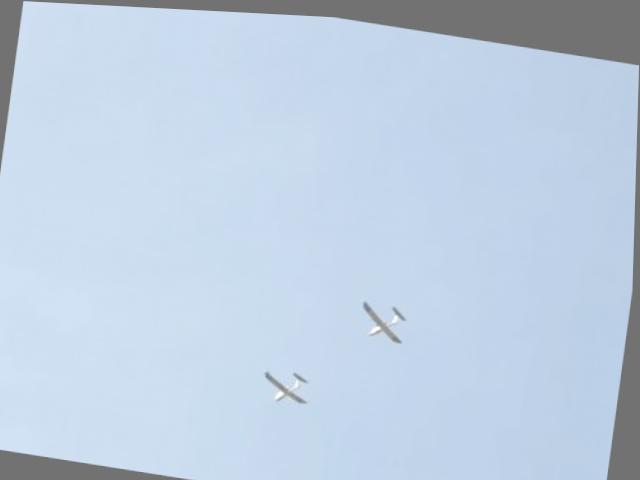uav: (358, 289, 412, 342), (262, 361, 316, 405)
